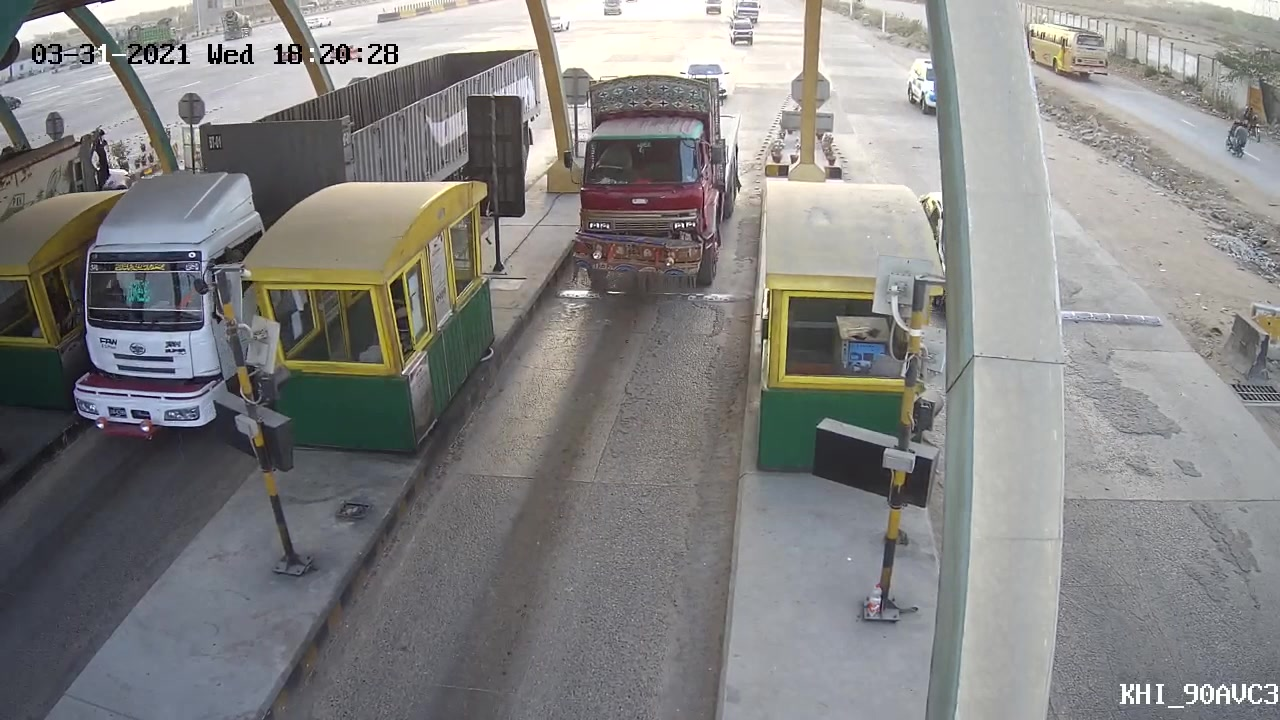F6: (552, 71, 745, 296)
